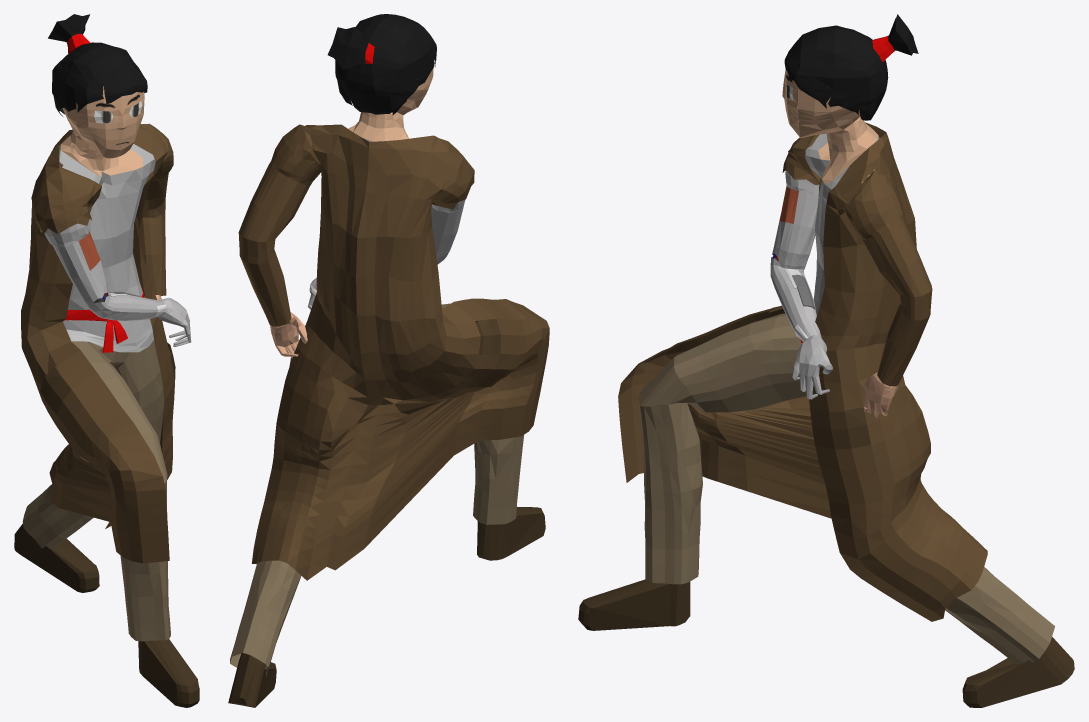
File: One_RB_000001.obj
3 views of the same model, side by side, from view 1: azimuth 30°, elevation 25°; view 2: azimuth 150°, elevation 25°; view 3: azimuth 270°, elevation 25° (orthographic). The views are drawn at different scales.
Visible parts, largest first — view 1: Hair_Cube.004; view 2: Hair_Cube.004; view 3: Hair_Cube.004.
Boxes of the visible parts, x1=… form: Hair_Cube.004: x1=14, y1=14, x2=199, y2=707; Hair_Cube.004: x1=228, y1=14, x2=549, y2=707; Hair_Cube.004: x1=578, y1=14, x2=1074, y2=707.
Size of the model in its own units: 1.09 by 3.57 by 2.43.
